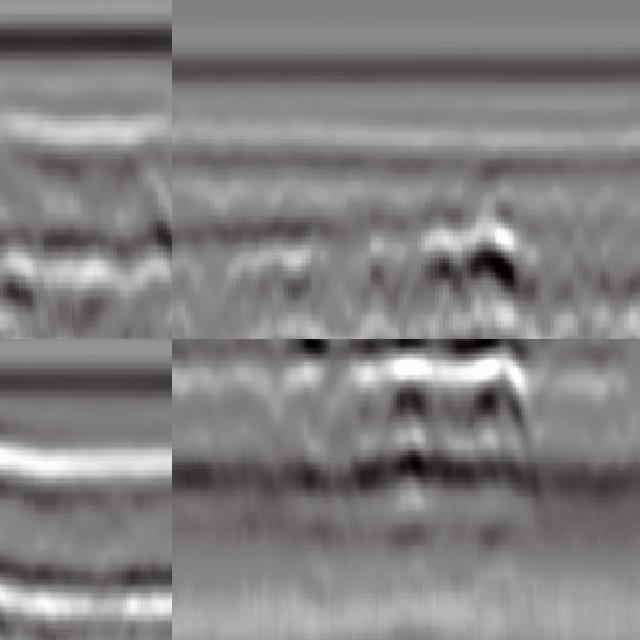crack: (1, 478, 22, 640)
loose: (288, 340, 539, 523), (1, 201, 173, 340), (420, 215, 526, 340)
